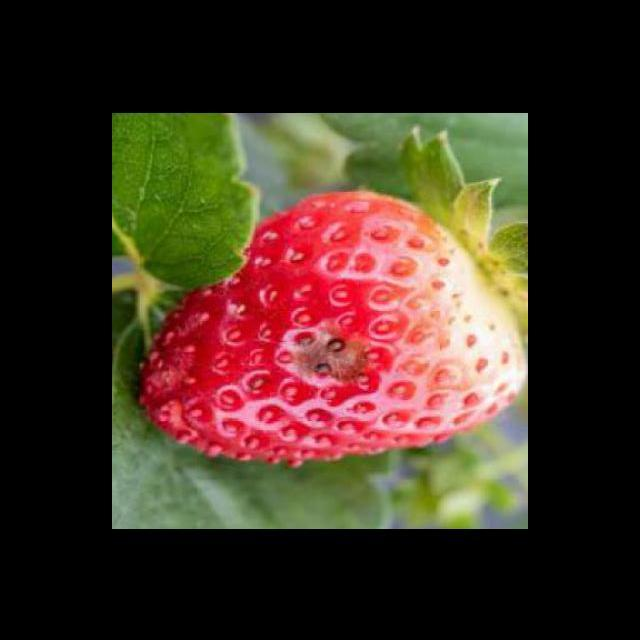Anthracnose Fruit Rot: (278, 308, 393, 405)
